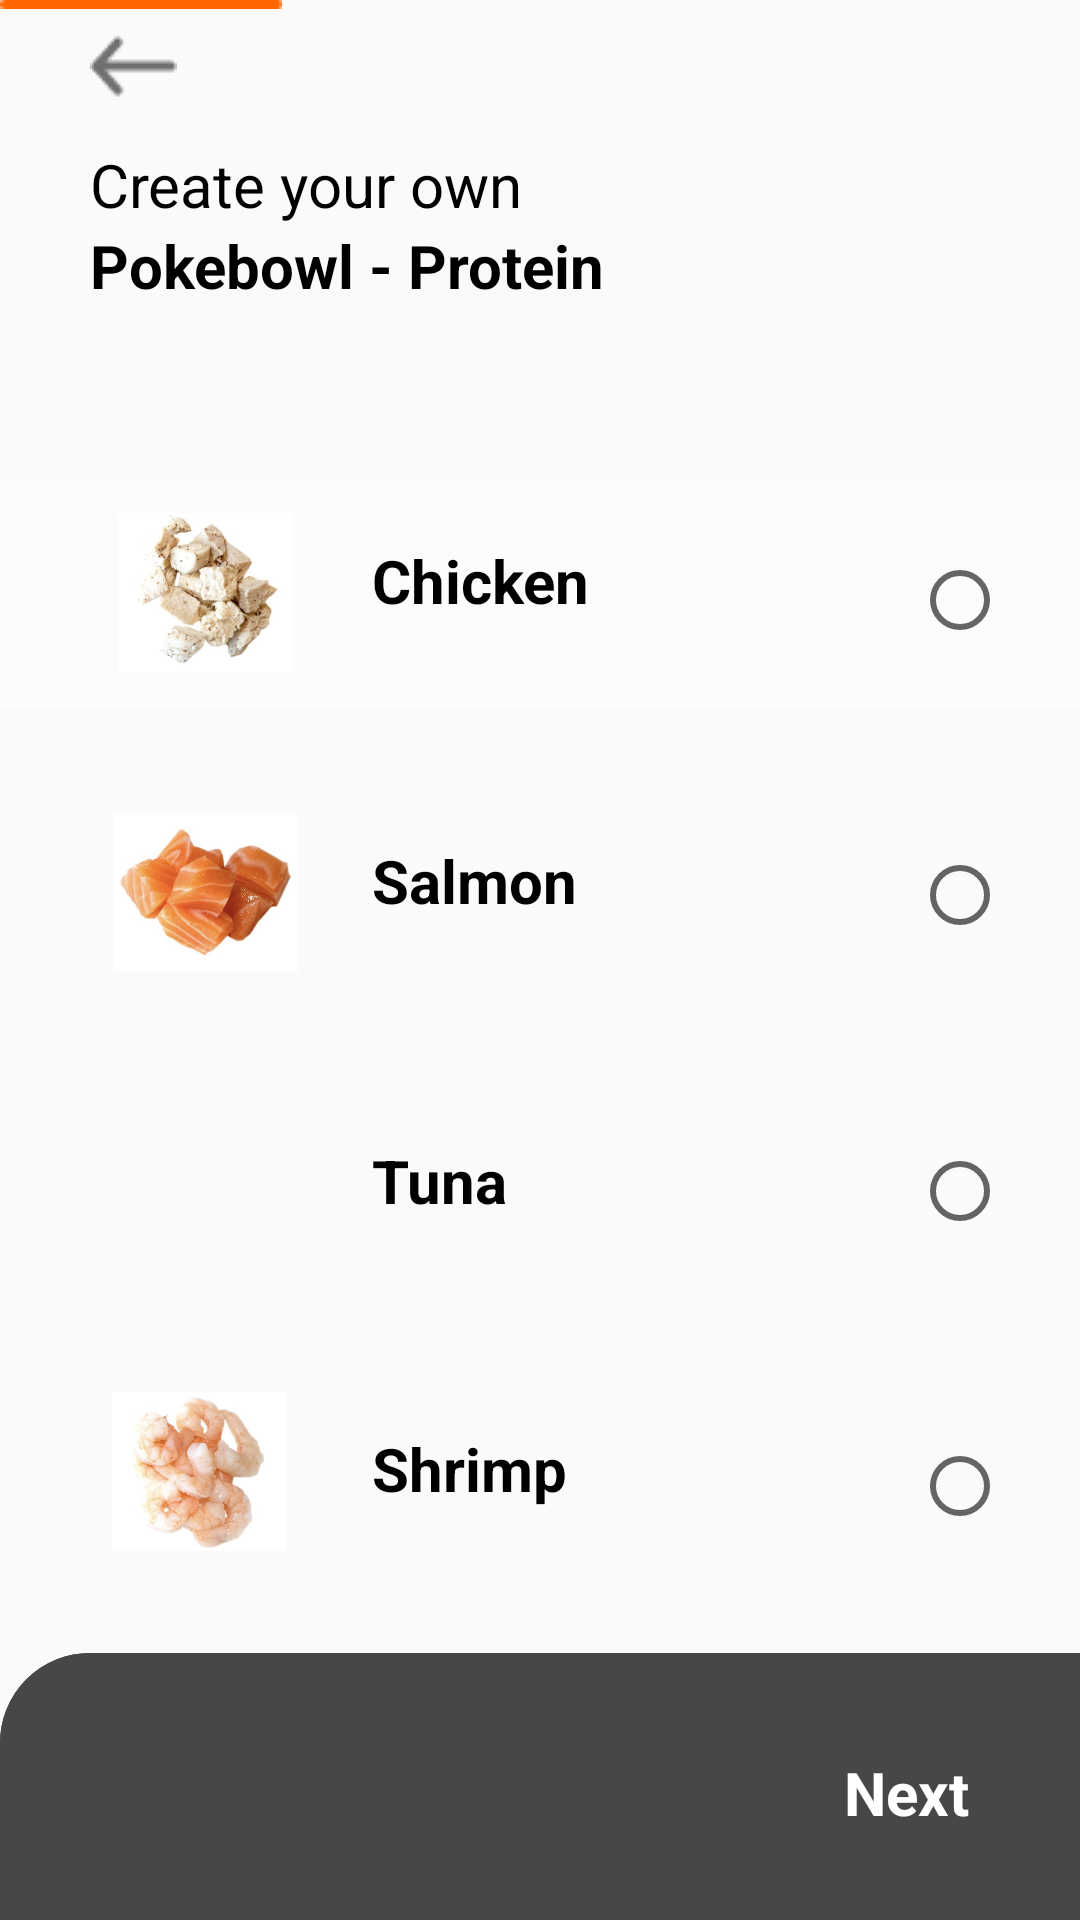

Icon bounding boxes for this 1080 x 1920 phone screenshot, format {"left": x1, "top": y1, "right": x2, "bottom": y2}:
Arrow: {"left": 90, "top": 36, "right": 177, "bottom": 97}
